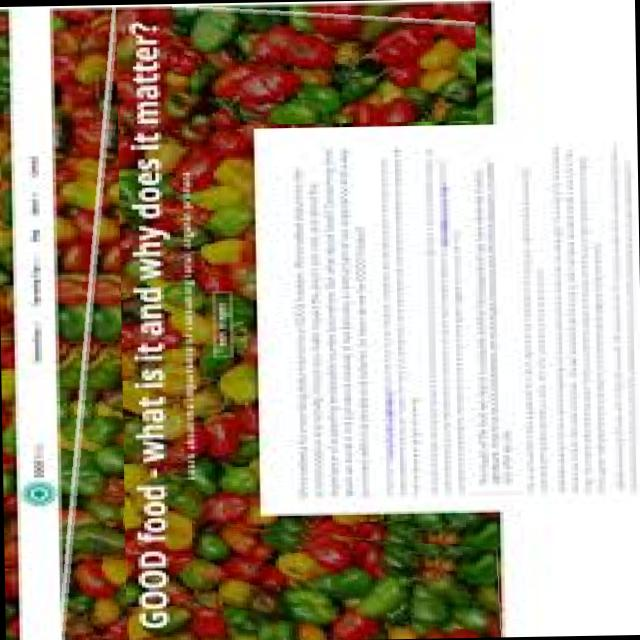Organic: (45, 3, 126, 640), (164, 0, 476, 124), (191, 516, 502, 640)
